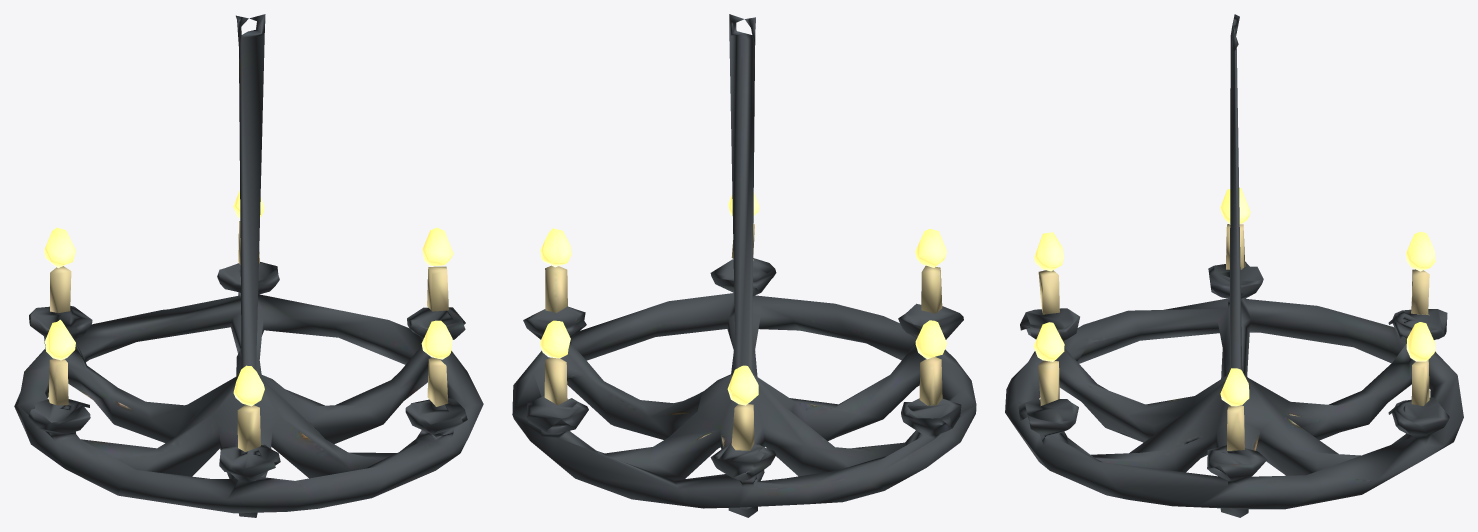
Rendered from chandelier.glb.
3 renders of one model, left to right at view 1: azimuth 30°, elevation 25°; view 2: azimuth 150°, elevation 25°; view 3: azimuth 270°, elevation 25°, orthographic.
Visible parts, largest first — view 1: iron, flames; view 2: iron, flames; view 3: iron, flames.
Boxes of the visible parts, x1,y1,x2,y2 form: iron: [14, 14, 483, 517]; flames: [44, 190, 453, 406]; iron: [512, 14, 976, 517]; flames: [540, 192, 946, 405]; iron: [1005, 14, 1463, 517]; flames: [1033, 188, 1435, 406].
Bounding box in the file's own units: 0.6113 × 0.6141 × 0.5771.
2 materials, 2 textured.
